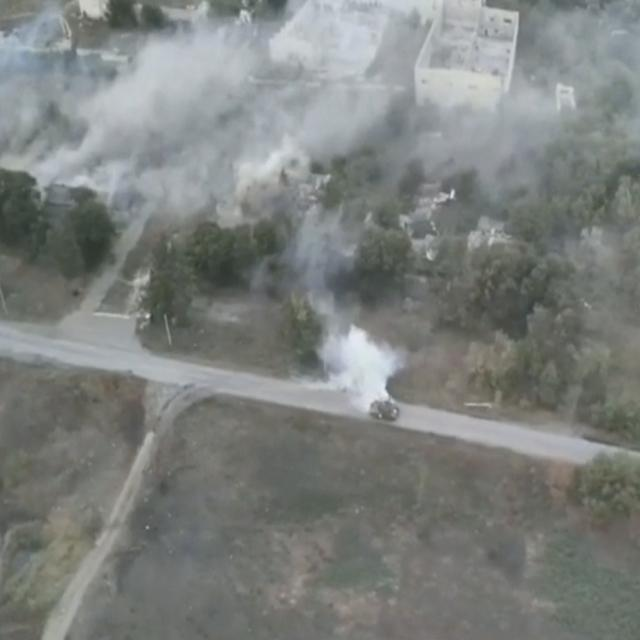vehicle: (371, 397, 399, 422)
